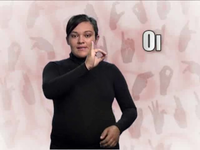oi: (87, 38, 109, 70)
